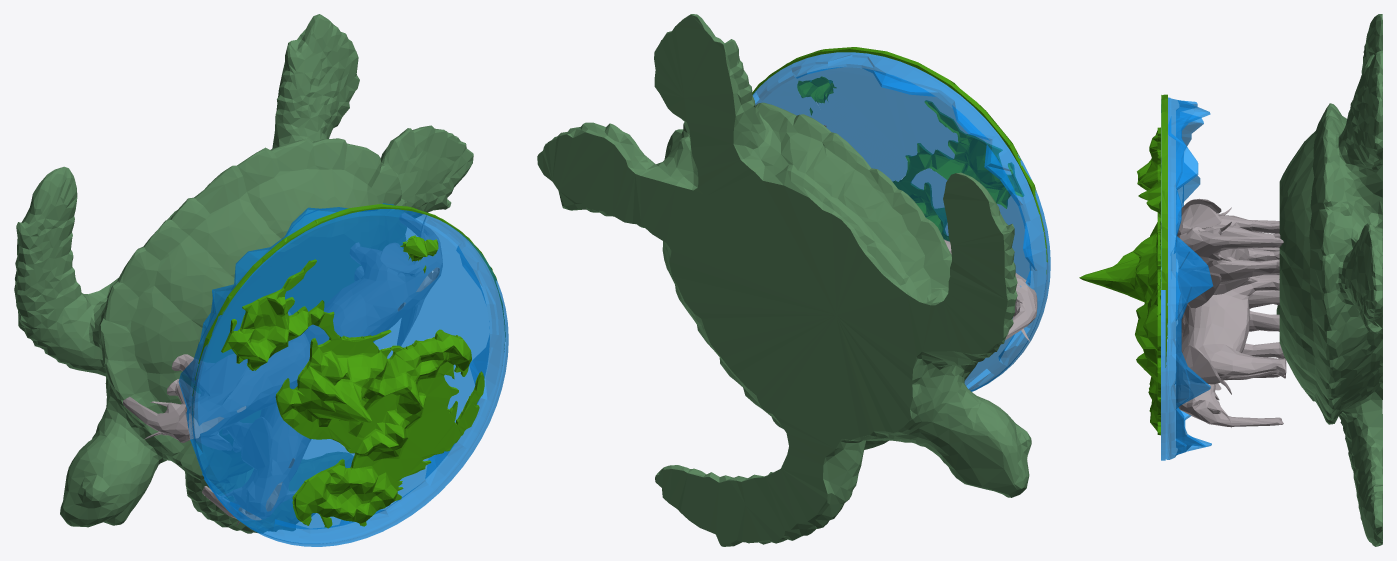
The model's file is united.obj.
3 renders of one model, left to right at view 1: azimuth 30°, elevation 25°; view 2: azimuth 150°, elevation 25°; view 3: azimuth 270°, elevation 25°, orthographic. The views are drawn at different scales.
Size of the model in its own units: 143 by 151 by 82.02.
